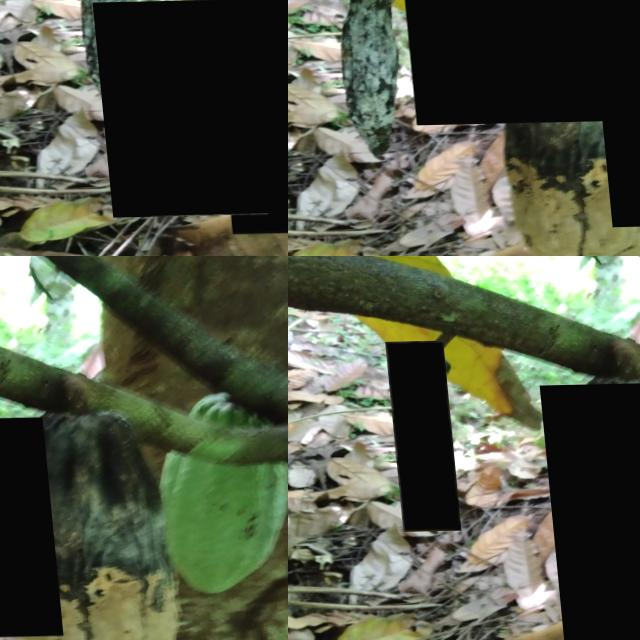Monilia: (535, 384, 640, 640), (382, 342, 454, 532), (0, 418, 54, 640)
Sana: (88, 1, 259, 218), (388, 0, 640, 126), (202, 0, 288, 235)
